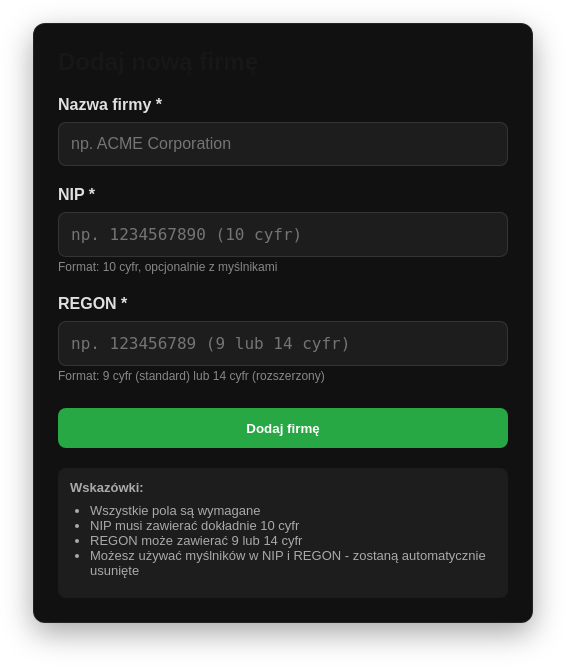
Test: AddCompanyForm › Wysyłanie formularza › powinien pomyślnie utworzyć firmę z poprawnymi danymi
Type "Test Company" into the field labelled "Nazwa firmy *". click: (283, 144)
box: [58,122,508,166]
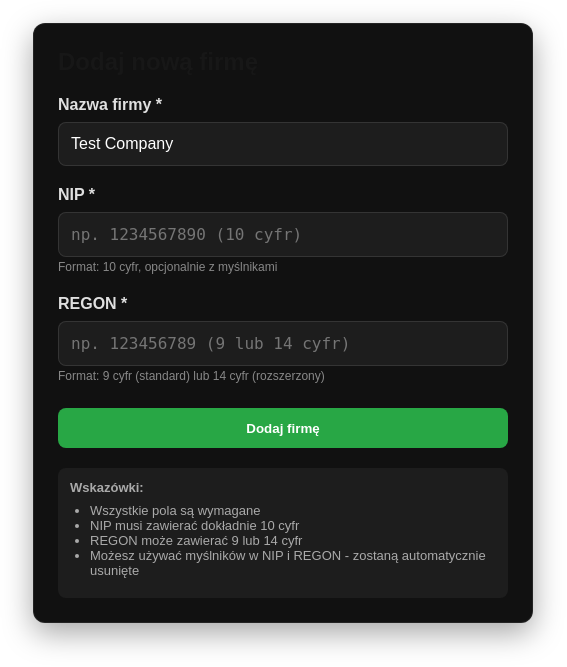
Type "1234567890" into the field labelled "NIP *". click: (283, 234)
box: [58,212,508,257]
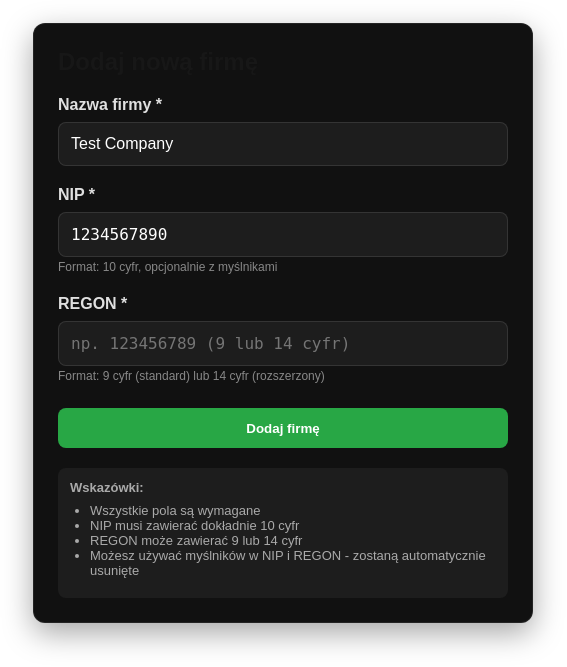
Type "123456789" into the field labelled "REGON *". click: (283, 344)
box: [58,321,508,366]
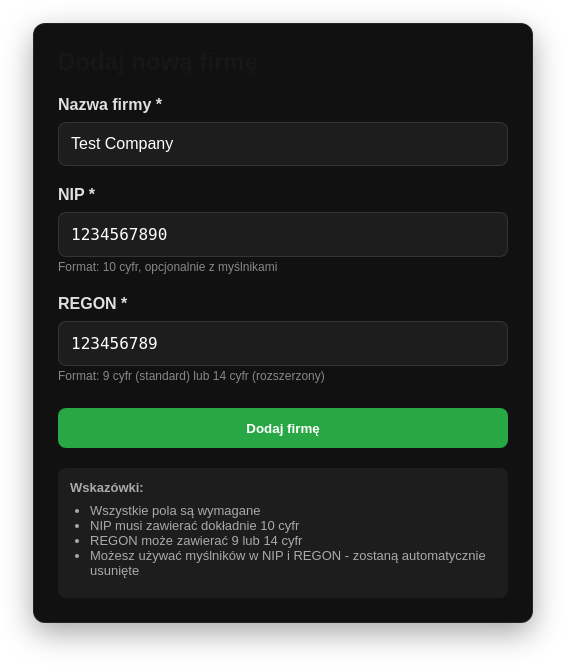
Click the button "Dodaj firmę". click: (283, 428)
box: [58,408,508,448]
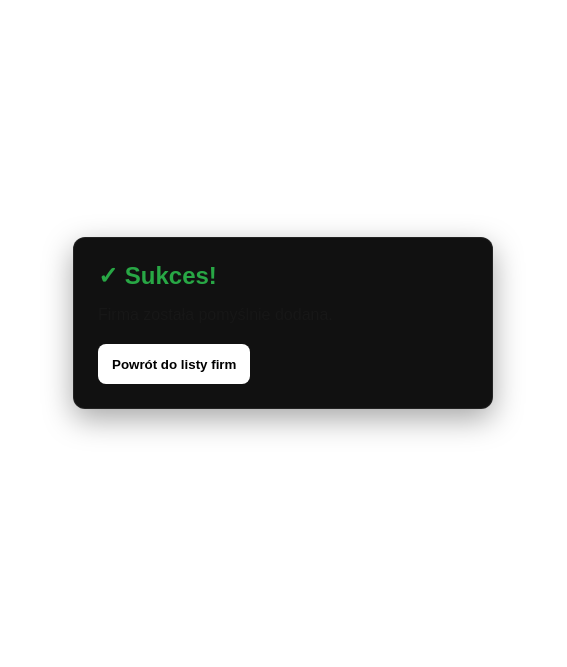
Expected: the heading "✓ Sukces!" is shown, [98,262,217,289]
